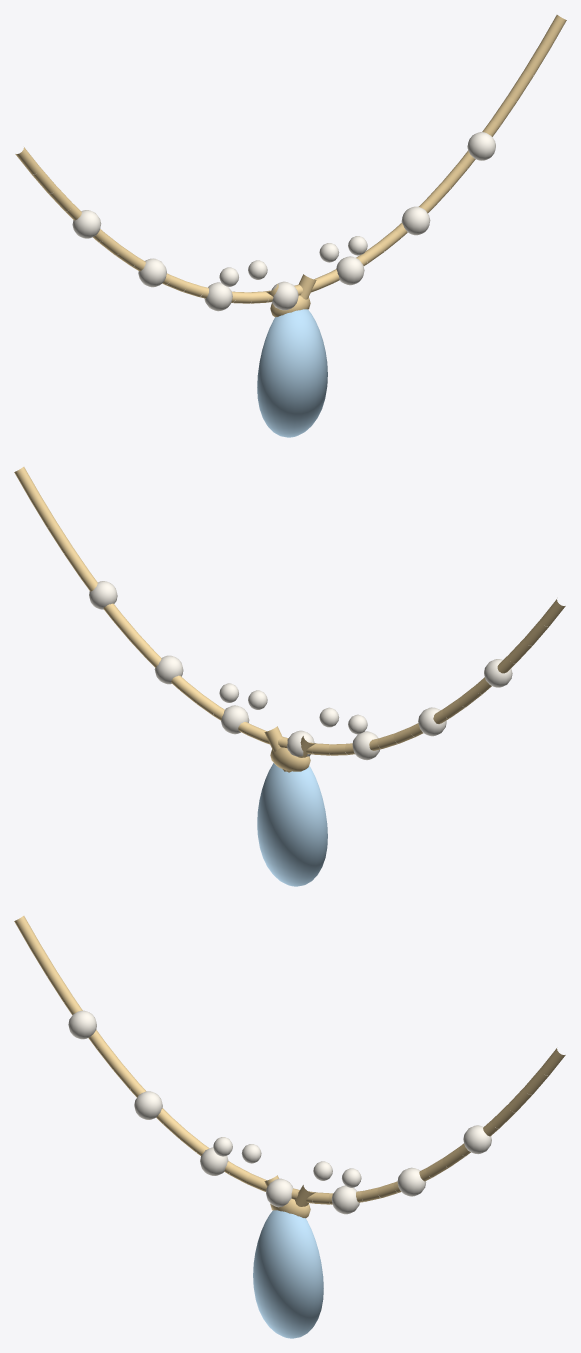
Rendered from teardrop-necklace.v2.safe.glb.
The picture shows the model from 3 angles, top to bottom: view 1: azimuth 30°, elevation 25°; view 2: azimuth 150°, elevation 25°; view 3: azimuth 330°, elevation 25°; orthographic projection.
Visible parts, largest first — view 1: safe-commercial-necklace; view 2: safe-commercial-necklace; view 3: safe-commercial-necklace.
Boxes of the visible parts, box(x1,y1,x2,y2) form: safe-commercial-necklace: box(15, 15, 566, 437); safe-commercial-necklace: box(14, 467, 565, 886); safe-commercial-necklace: box(14, 916, 565, 1338).
Size of the model in its own units: 1.54 by 0.948 by 0.0996.
